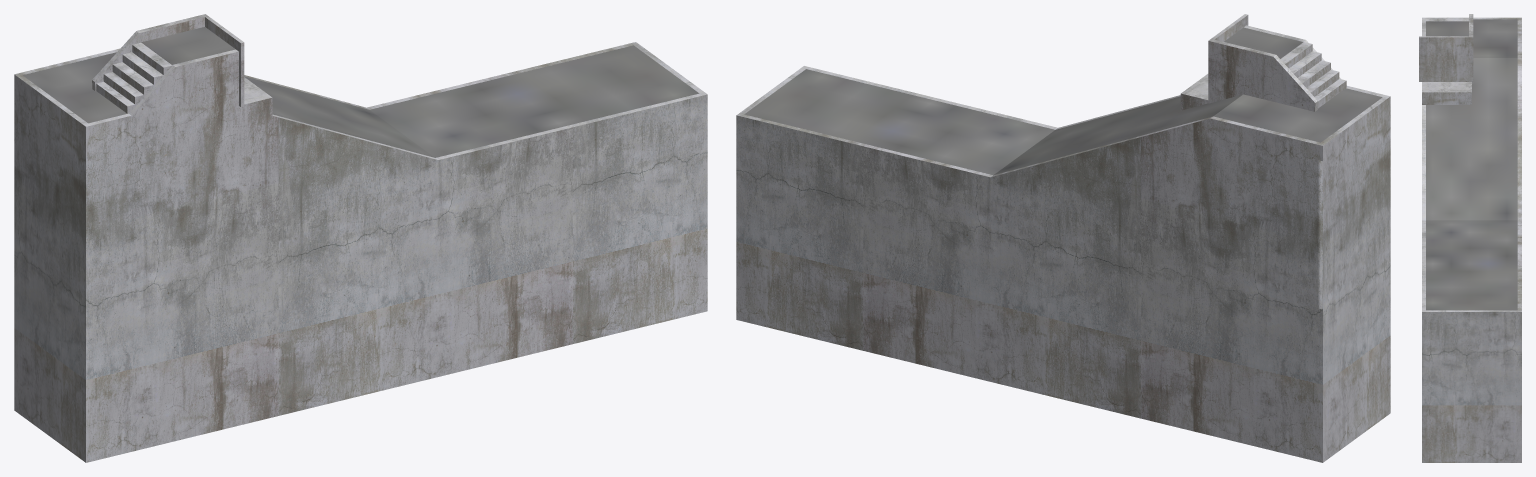
The model's file is JpHouse_32a_stie.fbx.
The picture shows the model from 3 angles, left to right: view 1: azimuth 30°, elevation 25°; view 2: azimuth 150°, elevation 25°; view 3: azimuth 270°, elevation 25°; orthographic projection. The views are drawn at different scales.
Visible parts, largest first — view 1: JpHouse_22a_stie; view 2: JpHouse_22a_stie; view 3: JpHouse_22a_stie.
Part boxes in pixels (<box>): JpHouse_22a_stie: <box>14,14,707,462</box>; JpHouse_22a_stie: <box>736,14,1390,462</box>; JpHouse_22a_stie: <box>1419,14,1521,462</box>.
Bounding box in the file's own units: 12 × 7.08 × 2.47.
